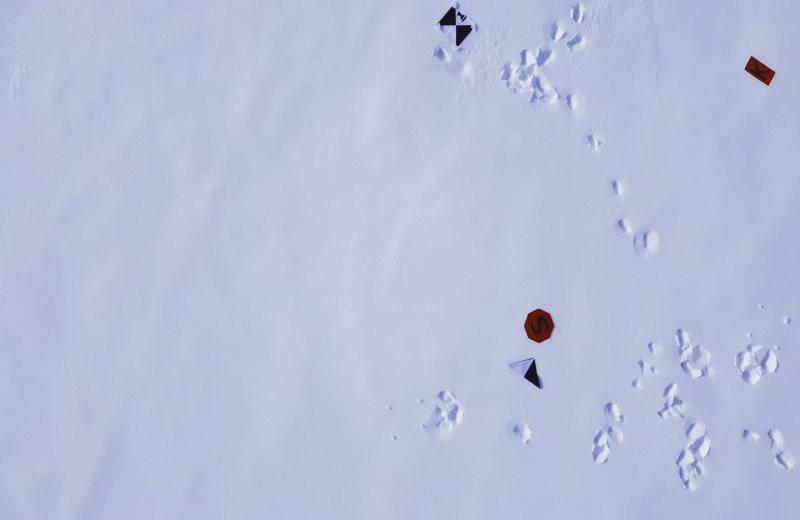Octagon: (521, 305, 557, 346)
Rectangle: (740, 52, 779, 94)
